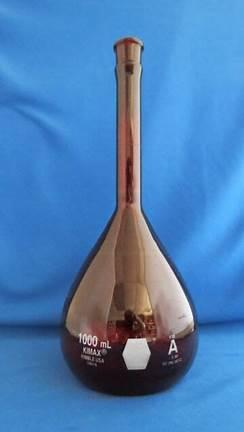Volumetric flask: (64, 27, 200, 396)
